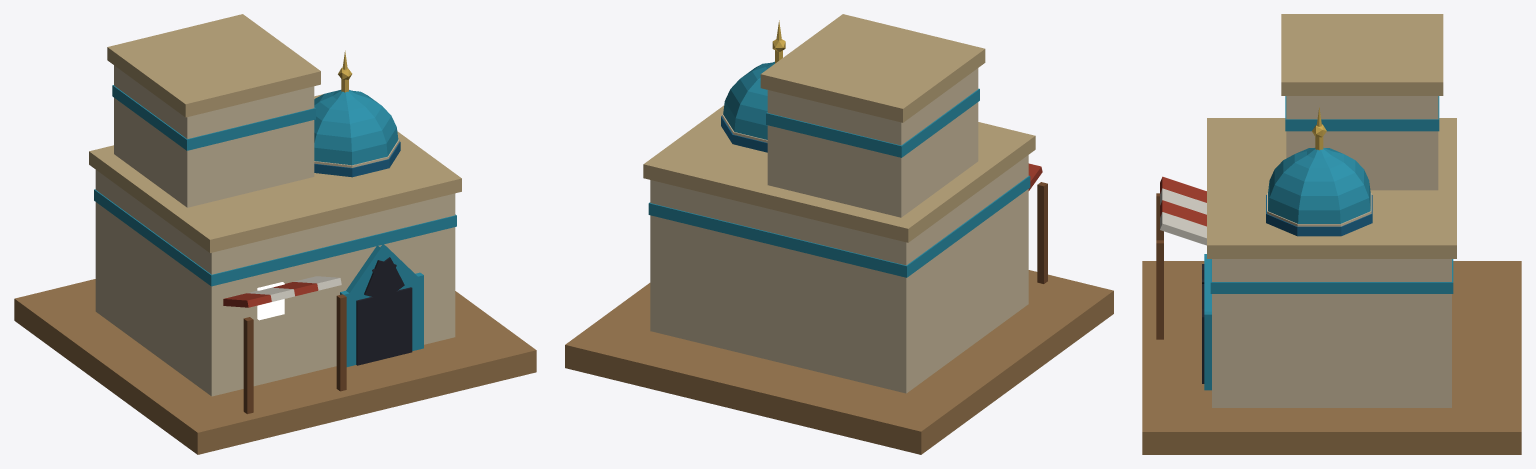
The model's file is house_t2.glb.
The picture shows the model from 3 angles, left to right: view 1: azimuth 30°, elevation 25°; view 2: azimuth 150°, elevation 25°; view 3: azimuth 270°, elevation 25°; orthographic projection. The views are drawn at different scales.
Parts seen in each view (by area): view 1: body, glow; view 2: body; view 3: body.
Part boxes in pixels (bbox=[...]): body: bbox=[14, 14, 536, 454]; glow: bbox=[257, 282, 284, 320]; body: bbox=[565, 14, 1113, 454]; body: bbox=[1142, 14, 1521, 454].
Bounding box in the file's own units: 1.6 × 1.3 × 1.5.
